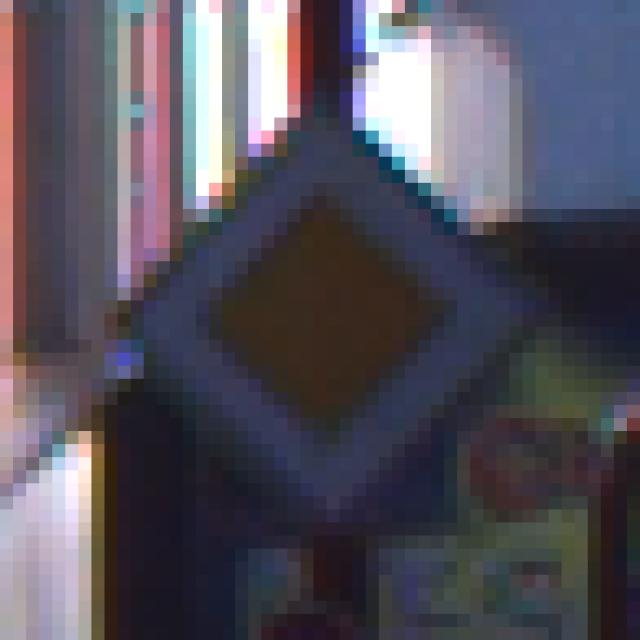Main Road: (66, 66, 576, 576)
